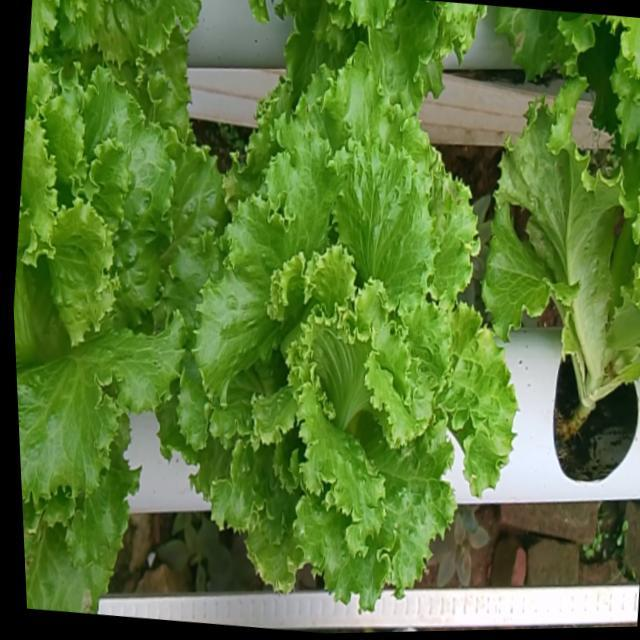Mature: (173, 75, 516, 626), (13, 75, 221, 521)
